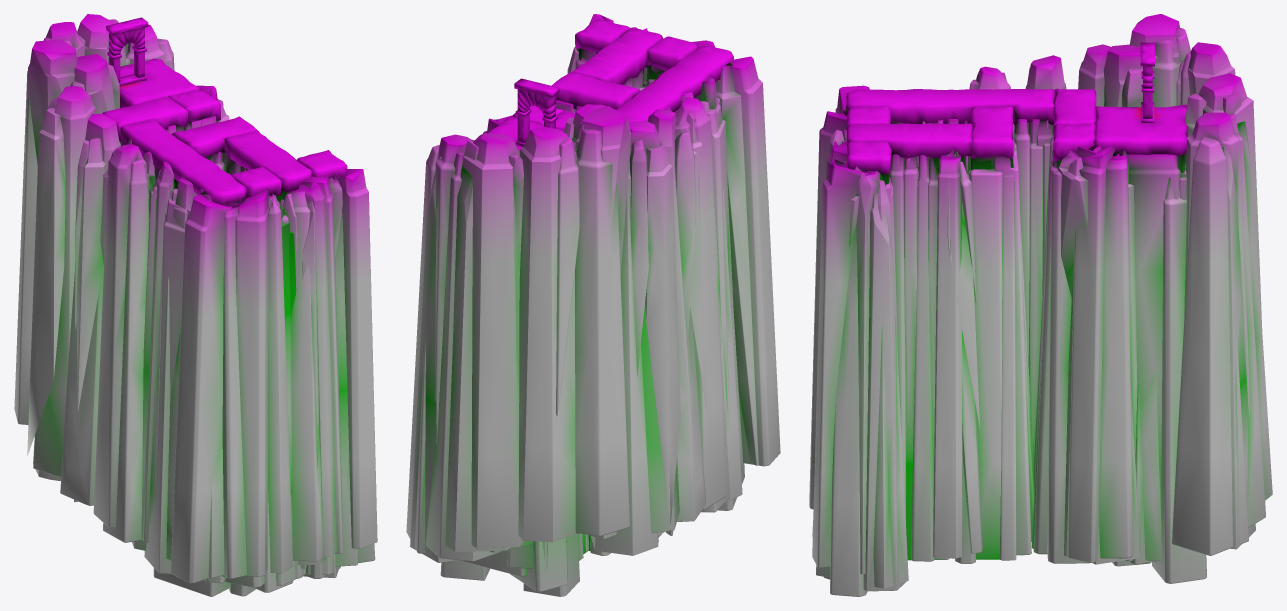
The model's file is level.glb.
3 renders of one model, left to right at view 1: azimuth 30°, elevation 25°; view 2: azimuth 150°, elevation 25°; view 3: azimuth 270°, elevation 25°, orthographic. The views are drawn at different scales.
Parts seen in each view (by area): view 1: rock, marble, riser_B0_marble, riser_B1_marble; view 2: rock, marble, riser_B1_marble; view 3: rock, riser_B1_rock, marble, riser_B1_marble, riser_B0_marble, riser_B0_rock.
Boxes of the visible parts, bbox=[...] form: rock: bbox=[14, 14, 377, 596]; marble: bbox=[106, 17, 347, 205]; riser_B0_marble: bbox=[102, 97, 188, 140]; riser_B1_marble: bbox=[171, 116, 259, 157]; rock: bbox=[406, 14, 780, 596]; marble: bbox=[488, 19, 733, 152]; riser_B1_marble: bbox=[551, 72, 640, 109]; rock: bbox=[809, 14, 1272, 596]; riser_B1_rock: bbox=[969, 123, 1034, 560]; marble: bbox=[846, 42, 1188, 174]; riser_B1_marble: bbox=[970, 106, 1013, 158]; riser_B0_marble: bbox=[1053, 88, 1096, 131]; riser_B0_rock: bbox=[1033, 124, 1053, 491].
Size of the model in its own units: 10.15 by 19.87 by 16.85.
